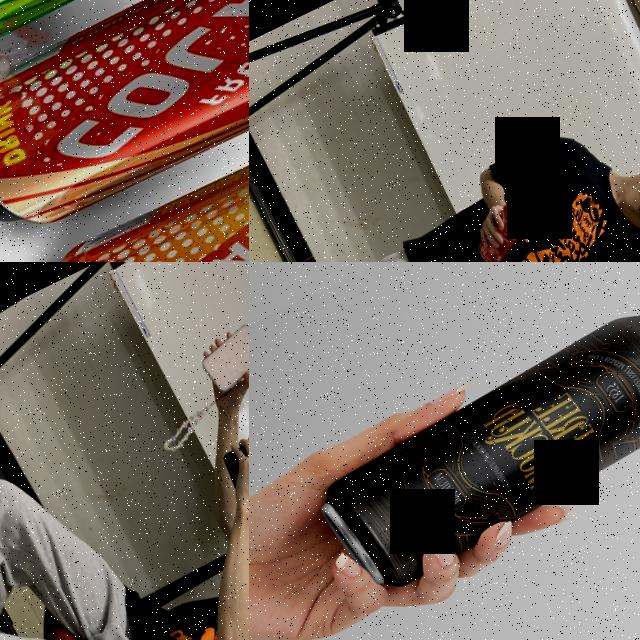can: (298, 288, 640, 605), (0, 0, 249, 259), (1, 36, 249, 262), (0, 0, 249, 84), (462, 196, 540, 262)
